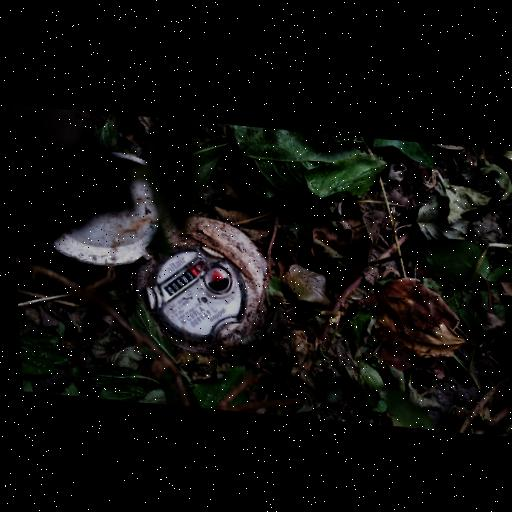0: (163, 283, 176, 296), (169, 279, 181, 291)
1: (189, 265, 200, 277)
3: (183, 268, 196, 281)
5: (193, 262, 204, 273)
6: (173, 276, 186, 289)
8: (178, 273, 191, 285)
border_water_meter_number: (153, 252, 212, 306)
